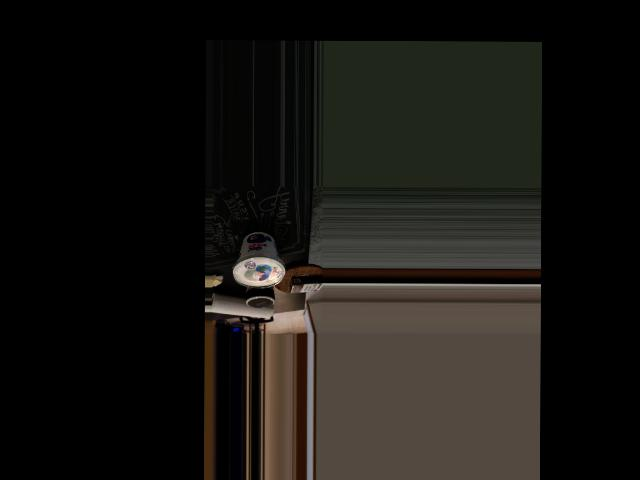cotage: (232, 228, 282, 289)
